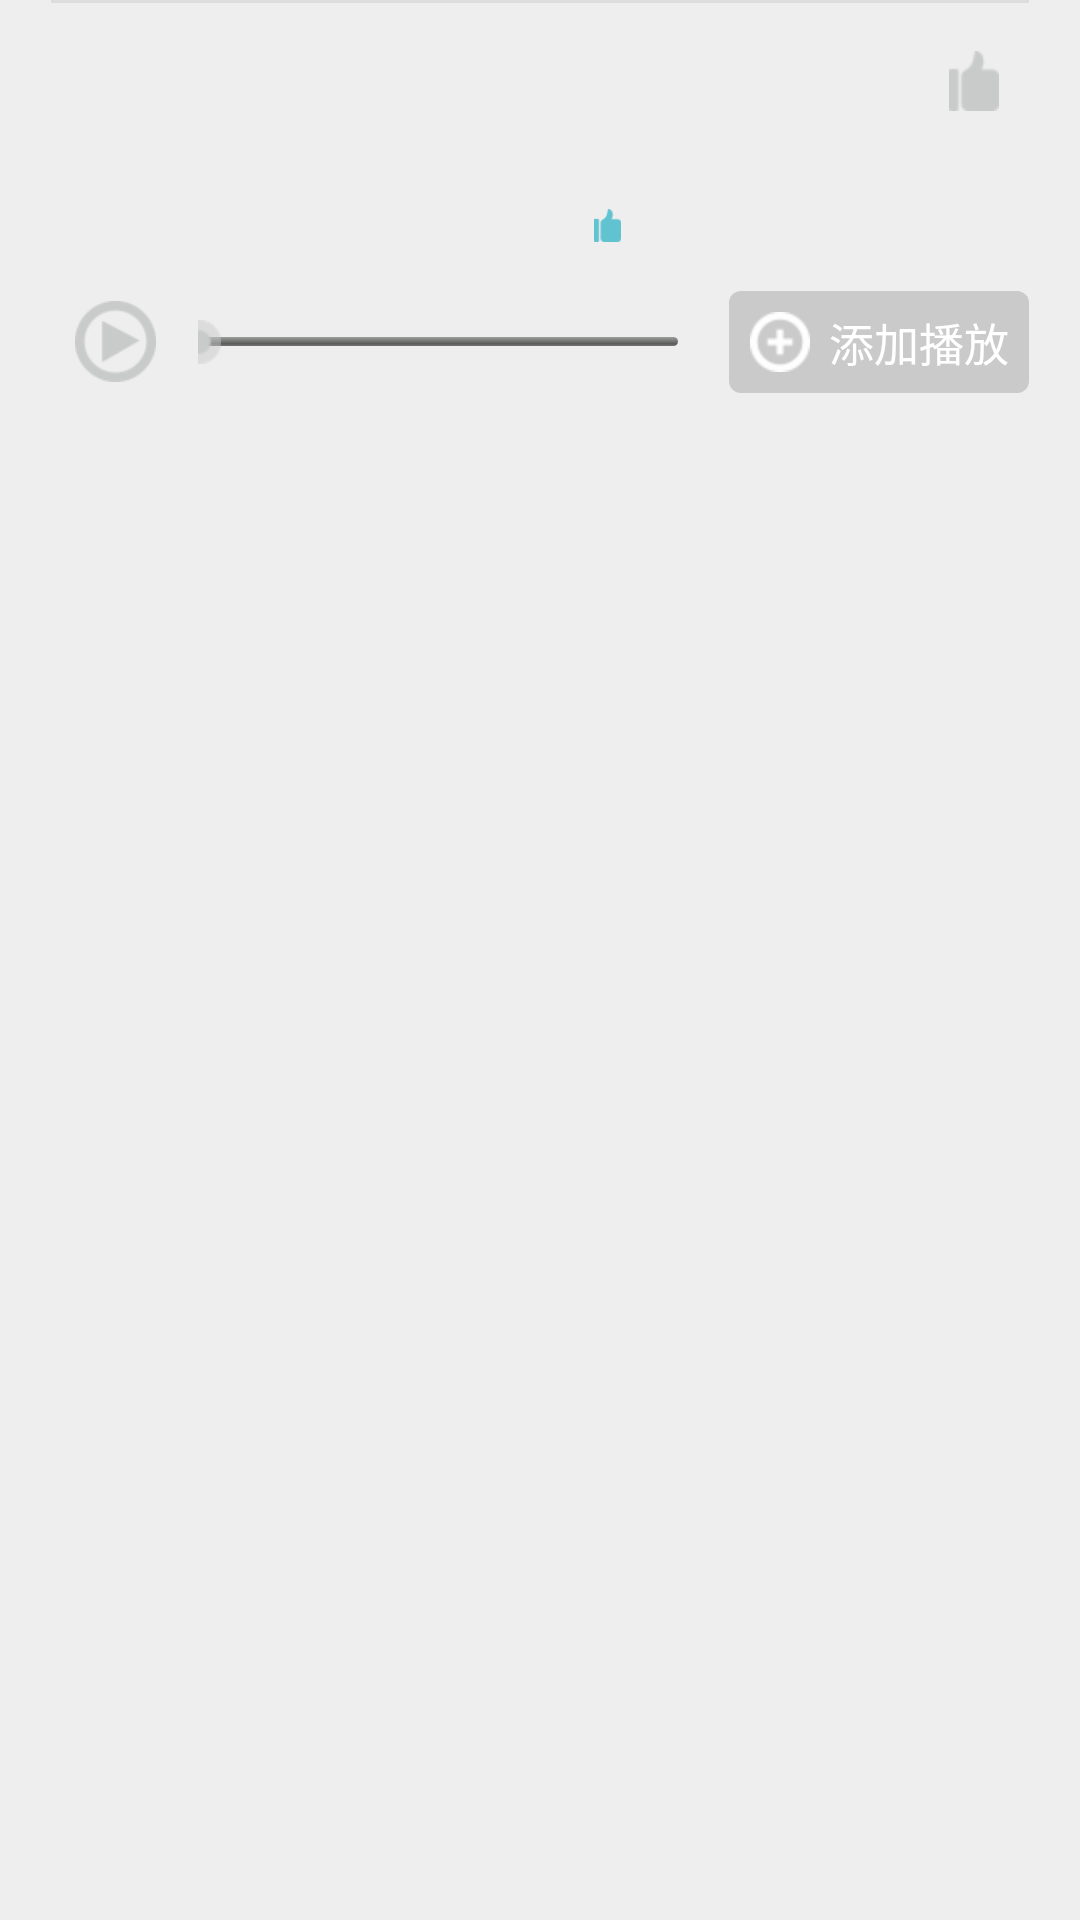

Locate icon controls on the screen. Image size 1080 × 1920, boxes as (x1, y1, x2, y2).
praise: (949, 51, 999, 111), (594, 209, 621, 242)
pro play: (75, 301, 156, 382)
